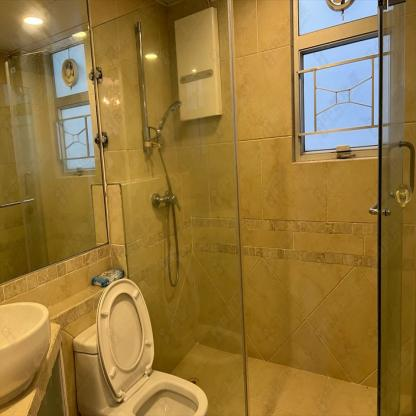Exhaust Fan: (62, 56, 79, 86)
Toilet: (71, 278, 209, 415)
Toilet Sink: (1, 302, 51, 405)
Water Cubicle: (94, 0, 246, 415)
Water Heater: (174, 6, 221, 121)
